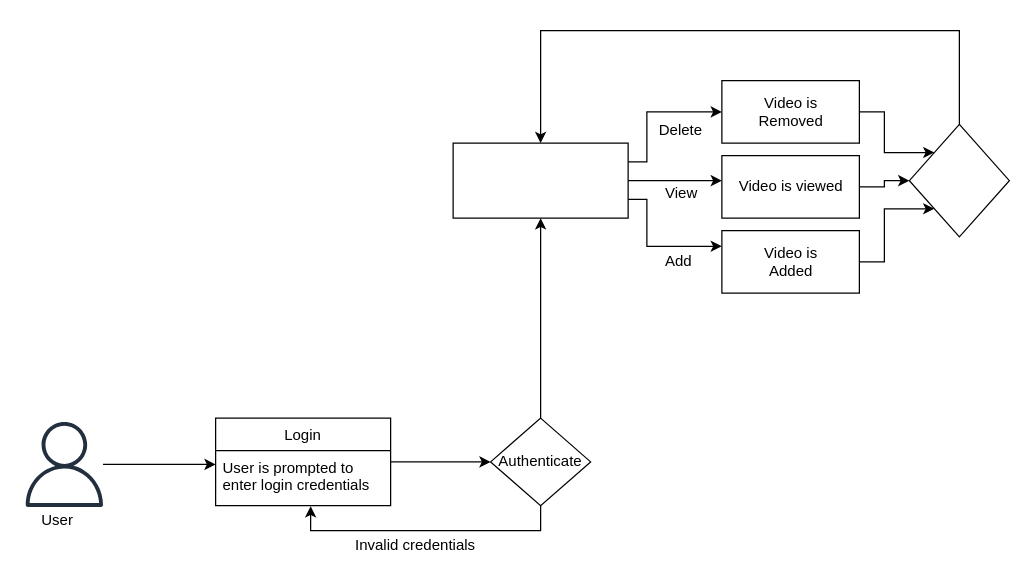
The diagram is 1031 pixels wide and 580 high, and some of its shapes have lost their labels. Each missing label, with the centre of its shape:
"Homepage Main location of videos" belongs at (x=540, y=180).
"Return to Homepage" belongs at (x=958, y=180).
